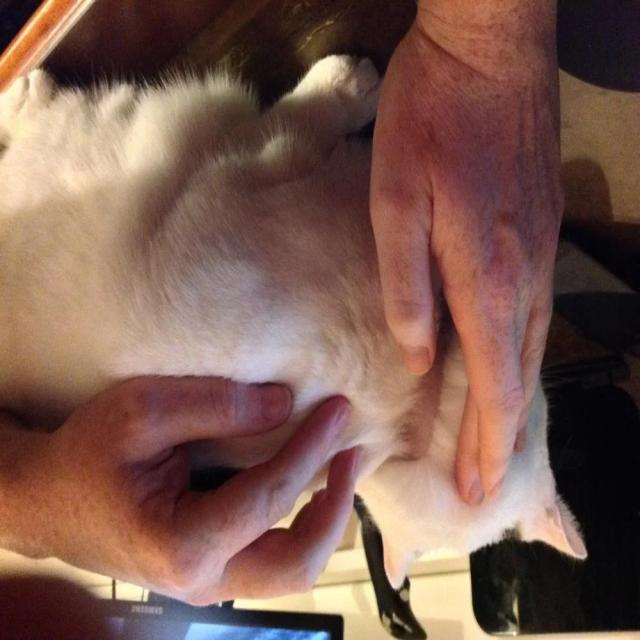cat-hairloss: (265, 184, 364, 274)
